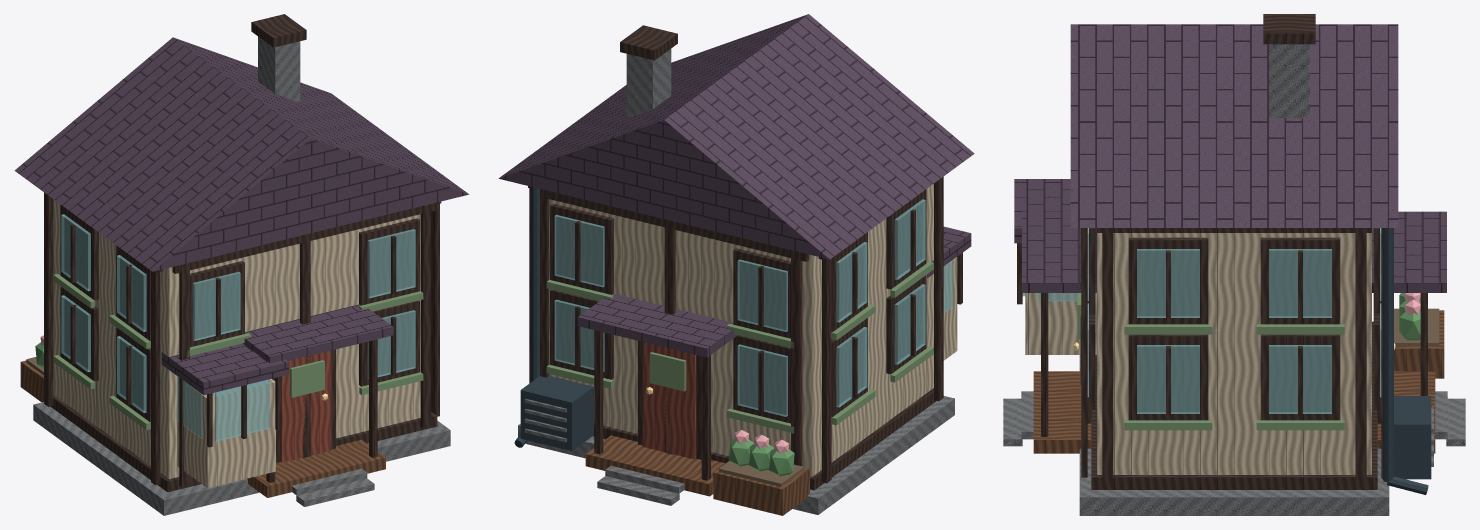
File: house_tudor_lv2_bay.glb
3 renders of one model, left to right at view 1: azimuth 30°, elevation 25°; view 2: azimuth 150°, elevation 25°; view 3: azimuth 270°, elevation 25°, orthographic. The views are drawn at different scales.
Parts seen in each view (by area): view 1: gable_roof, walls, bay_base, foundation, front_porch_canopy, front_window_frame.003, bay_cap, front_door, front_window_frame.002, front_deck, floor_trim, front_window_frame.001 (+31 smaller); view 2: gable_roof, walls, back_porch_canopy, foundation, back_door, back_window_frame.003, back_ac_unit, back_window_frame.002, back_window_frame, back_deck, back_window_frame.001, back_garden_bed (+36 smaller); view 3: gable_roof, walls, foundation, right_window_frame.002, right_window_frame.003, right_window_frame, right_window_frame.001, floor_trim, front_porch_canopy, back_porch_canopy, right_window_glass.002, right_window_glass.003 (+31 smaller).
Boxes of the visible parts, box(x1,y1,x2,y2) form: gable_roof: box(14, 37, 468, 271); walls: box(53, 199, 420, 478); bay_base: box(177, 377, 275, 488); foundation: box(33, 402, 450, 515); front_porch_canopy: box(243, 304, 393, 363); front_window_frame.003: box(359, 218, 419, 305); bay_cap: box(161, 343, 288, 395); front_door: box(280, 350, 331, 462); front_window_frame.002: box(190, 261, 244, 347); front_deck: box(247, 439, 385, 497); floor_trim: box(51, 394, 437, 492); front_window_frame.001: box(359, 300, 419, 386); gable_roof: box(498, 14, 974, 259); walls: box(549, 184, 933, 476); back_porch_canopy: box(577, 293, 737, 357); foundation: box(518, 396, 954, 514); back_door: box(643, 342, 696, 459); back_window_frame.003: box(550, 203, 613, 294); back_ac_unit: box(520, 376, 593, 450); back_window_frame.002: box(733, 248, 790, 338); back_window_frame: box(733, 335, 790, 423); back_deck: box(585, 435, 725, 496); back_window_frame.001: box(550, 289, 613, 379); back_garden_bed: box(713, 461, 809, 515); gable_roof: box(1070, 24, 1398, 227); walls: box(1097, 233, 1371, 474); foundation: box(1079, 355, 1389, 515); right_window_frame.002: box(1128, 237, 1208, 324); right_window_frame.003: box(1260, 237, 1340, 324); right_window_frame: box(1128, 334, 1208, 420); right_window_frame.001: box(1260, 334, 1340, 420); floor_trim: box(1091, 321, 1377, 489); front_porch_canopy: box(1022, 211, 1096, 292); back_porch_canopy: box(1372, 211, 1446, 292); right_window_glass.002: box(1137, 249, 1199, 317); right_window_glass.003: box(1269, 249, 1331, 317).
Bounding box in the file's own units: 3.15 × 3.56 × 3.36.
13 materials, 7 textured.
